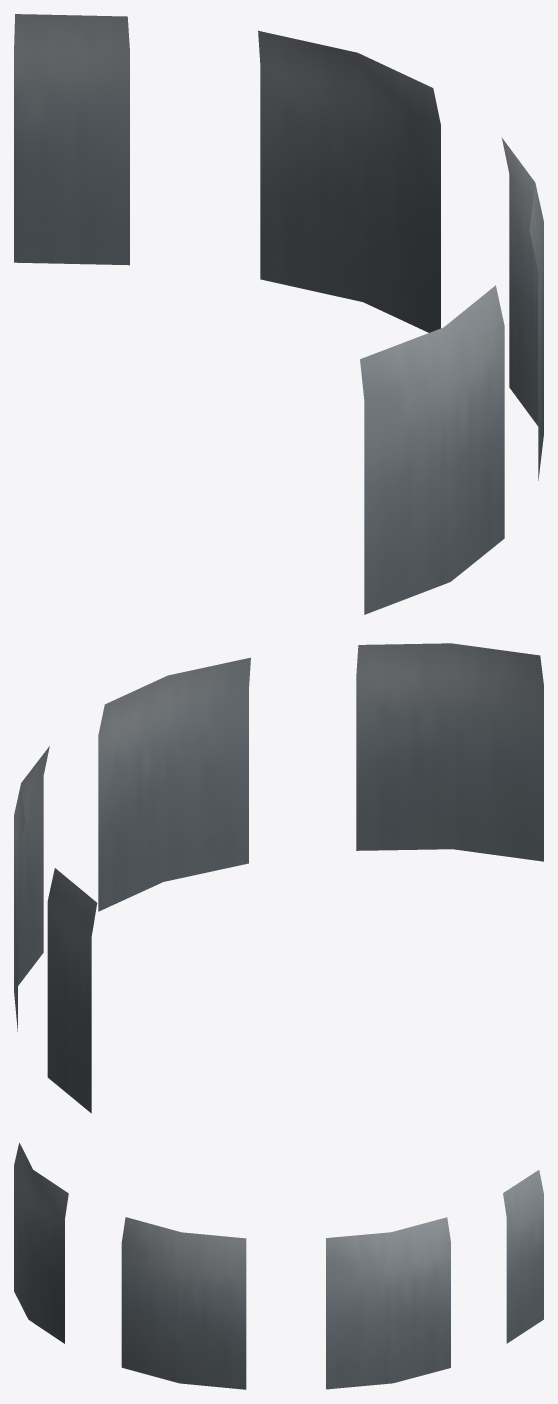
The model's file is Cor1_bldg_Youngling_Room_windows_1.fbx.
The picture shows the model from 3 angles, top to bottom: view 1: azimuth 30°, elevation 25°; view 2: azimuth 150°, elevation 25°; view 3: azimuth 270°, elevation 25°; orthographic projection. The views are drawn at different scales.
Parts seen in each view (by area): view 1: _1; view 2: _1; view 3: _1.
Boxes of the visible parts, x1,y1,x2,y2 form: _1: (14, 14, 543, 614); _1: (14, 643, 543, 1113); _1: (14, 1143, 543, 1389).
Bounding box in the file's own units: 10.45 × 7.38 × 23.76.
